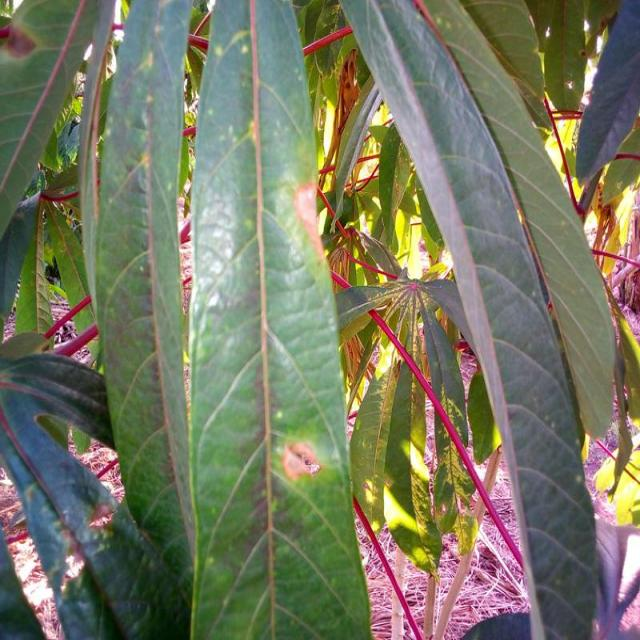cassava leaf: (339, 0, 606, 637), (187, 0, 374, 639), (94, 0, 195, 594)
